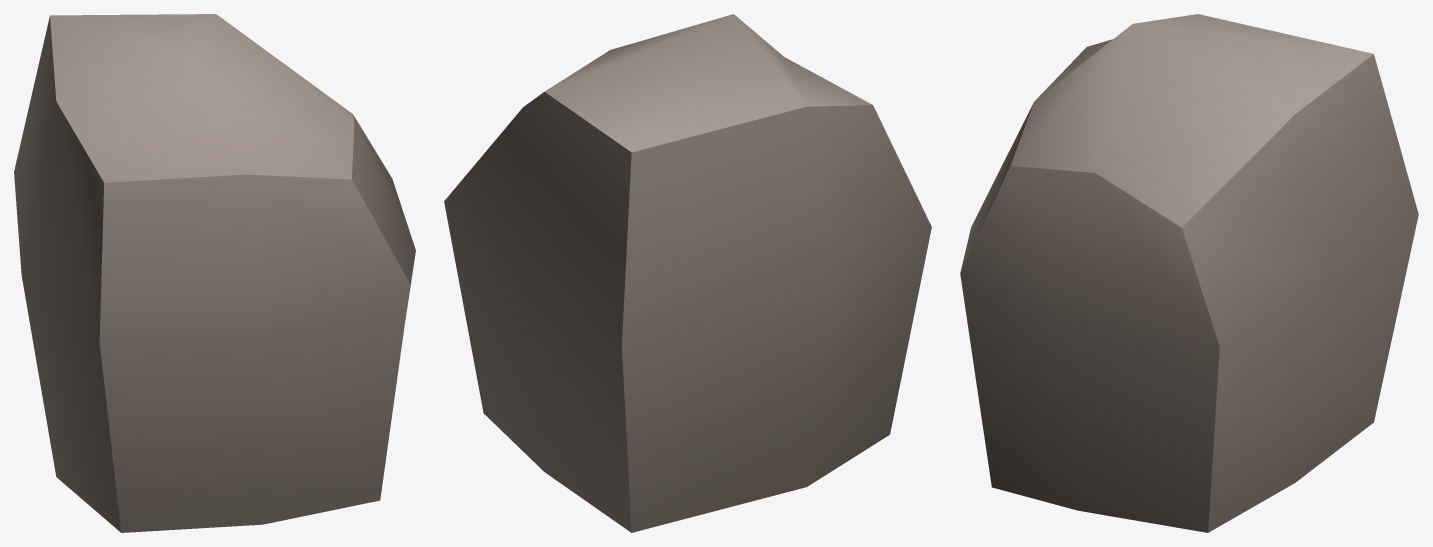
The model's file is elf_mine_stone_03.fbx.
The picture shows the model from 3 angles, left to right: view 1: azimuth 30°, elevation 25°; view 2: azimuth 150°, elevation 25°; view 3: azimuth 270°, elevation 25°; orthographic projection. The views are drawn at different scales.
Parts seen in each view (by area): view 1: elf_mine_stone_03; view 2: elf_mine_stone_03; view 3: elf_mine_stone_03.
Part boxes in pixels (x1,y1,x2,y2): elf_mine_stone_03: (14, 14, 415, 532); elf_mine_stone_03: (444, 14, 931, 532); elf_mine_stone_03: (960, 14, 1418, 532).
Size of the model in its own units: 276 by 284 by 288.
